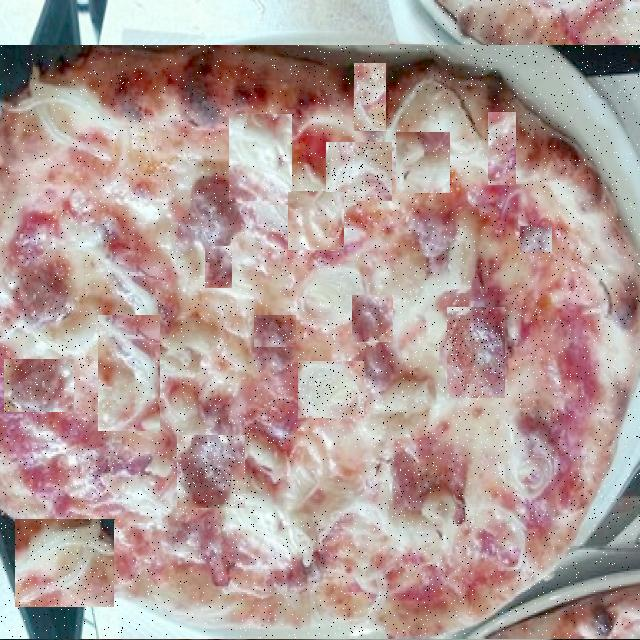Beef: (447, 308, 505, 398), (177, 436, 245, 508), (5, 360, 74, 412), (414, 423, 444, 488), (352, 296, 393, 342), (254, 316, 296, 347), (206, 247, 233, 288), (520, 228, 552, 254)
Onions: (377, 506, 483, 614), (15, 520, 116, 607), (98, 316, 160, 431), (229, 115, 292, 205), (272, 448, 356, 513), (542, 372, 614, 446), (327, 143, 392, 201), (298, 362, 364, 418), (288, 192, 344, 250), (396, 133, 450, 193), (354, 64, 386, 131), (488, 113, 516, 185)
Pizza: (0, 46, 640, 638), (435, 0, 639, 99)
